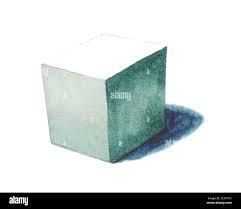cubos: (38, 26, 172, 167)
